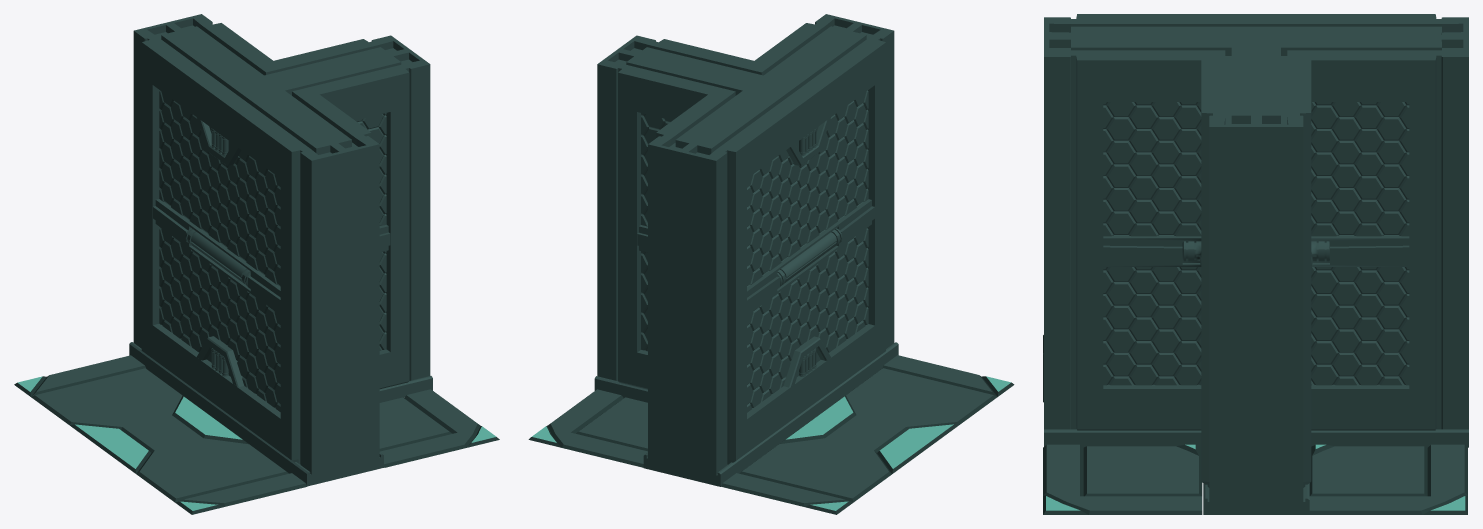
File: Walls_3Way_Var02.fbx
3 views of the same model, side by side, from view 1: azimuth 30°, elevation 25°; view 2: azimuth 150°, elevation 25°; view 3: azimuth 270°, elevation 25° (orthographic). The views are drawn at different scales.
Visible parts, largest first — view 1: Walls_3Way_Var02; view 2: Walls_3Way_Var02; view 3: Walls_3Way_Var02.
Part boxes in pixels (x1,y1,x2,y2): Walls_3Way_Var02: (14,14,499,514); Walls_3Way_Var02: (528,14,1014,514); Walls_3Way_Var02: (1043,14,1468,514).
Size of the model in its own units: 600 by 604 by 601.
